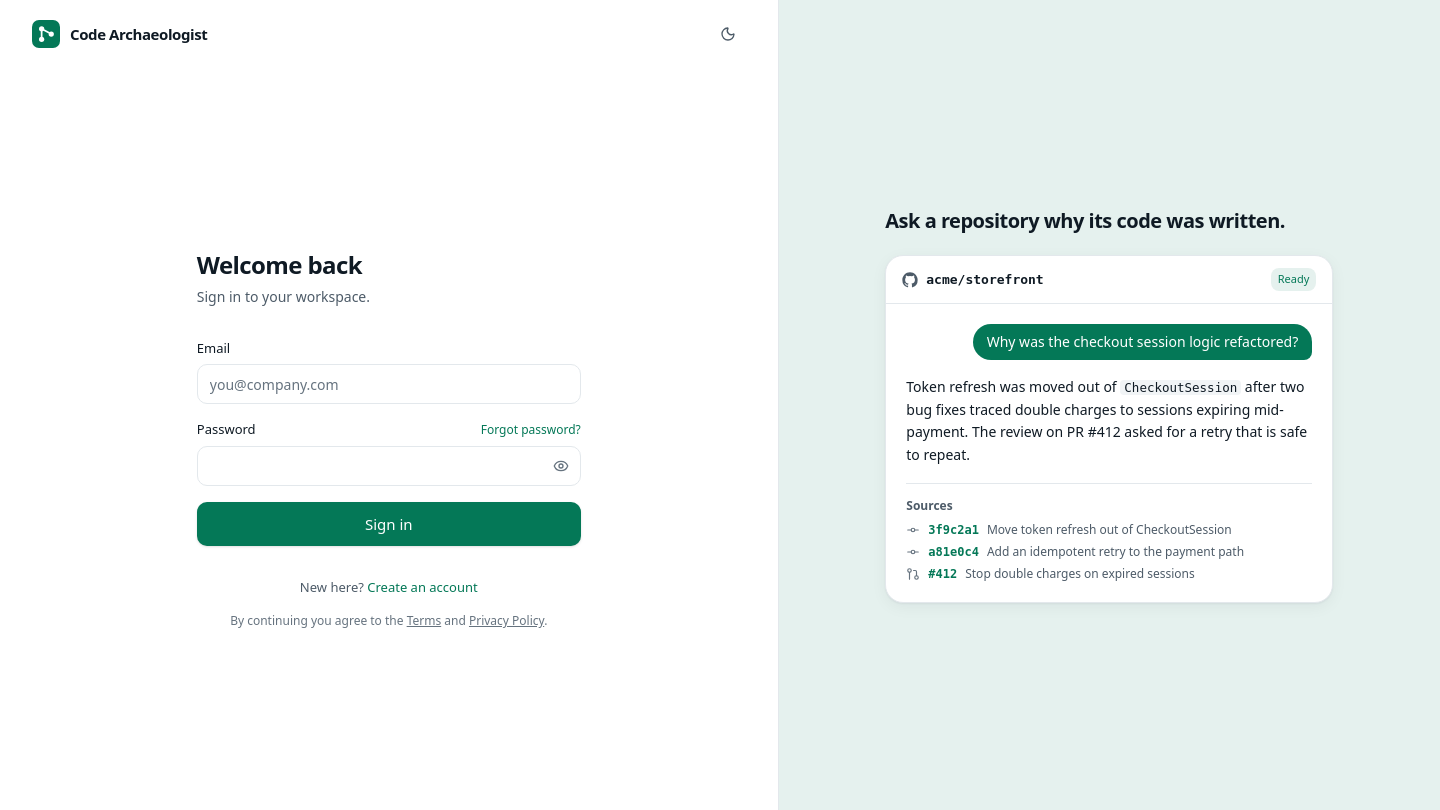
Test case: Login › asks for the authenticator code after a right password on a two-step account
Step 1. Type "me@example.com" into the field labelled "Email" → (389,384), box [197,364,581,404]
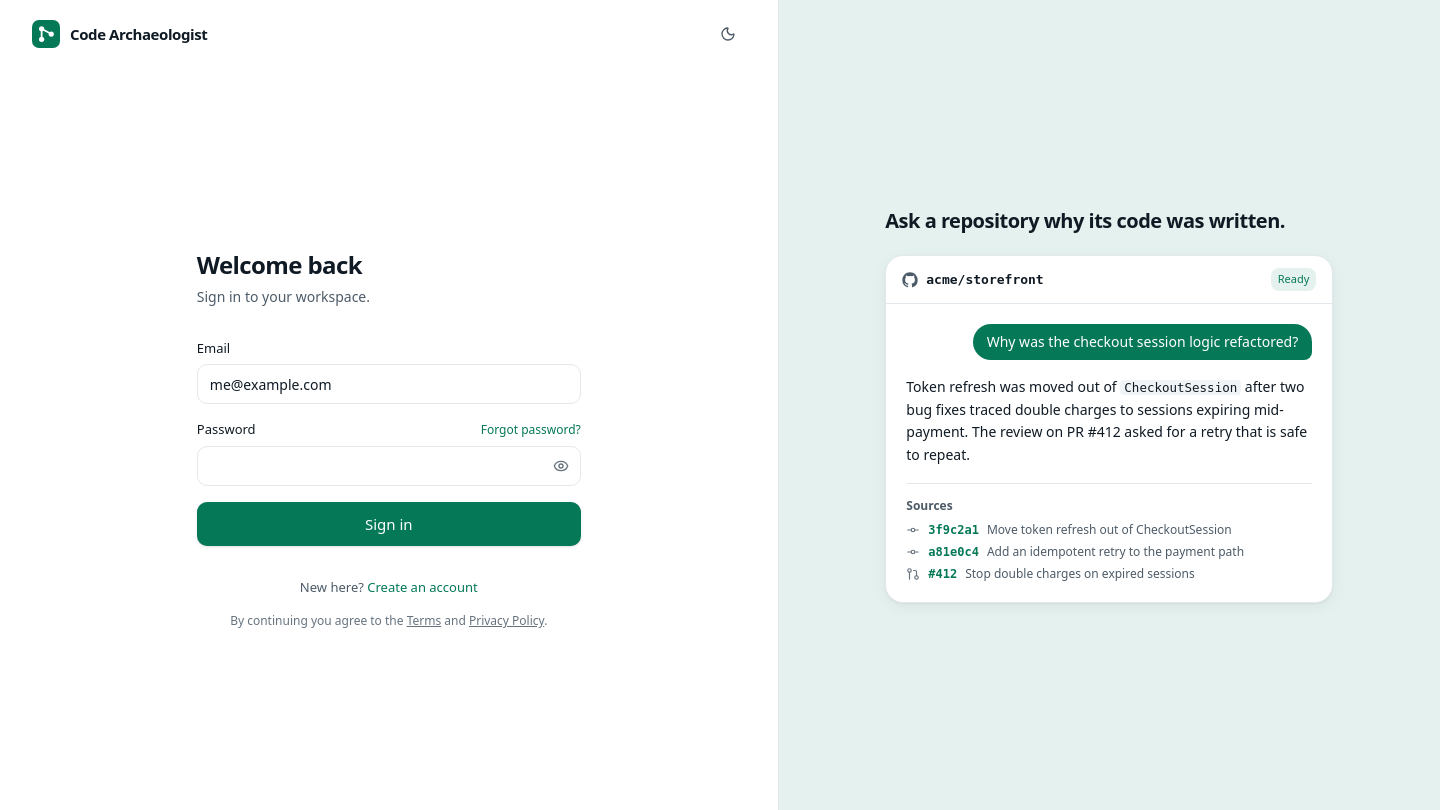
Step 2. Type "a-good-password" into the password field labelled "Password" → (389,466), box [197,446,581,486]
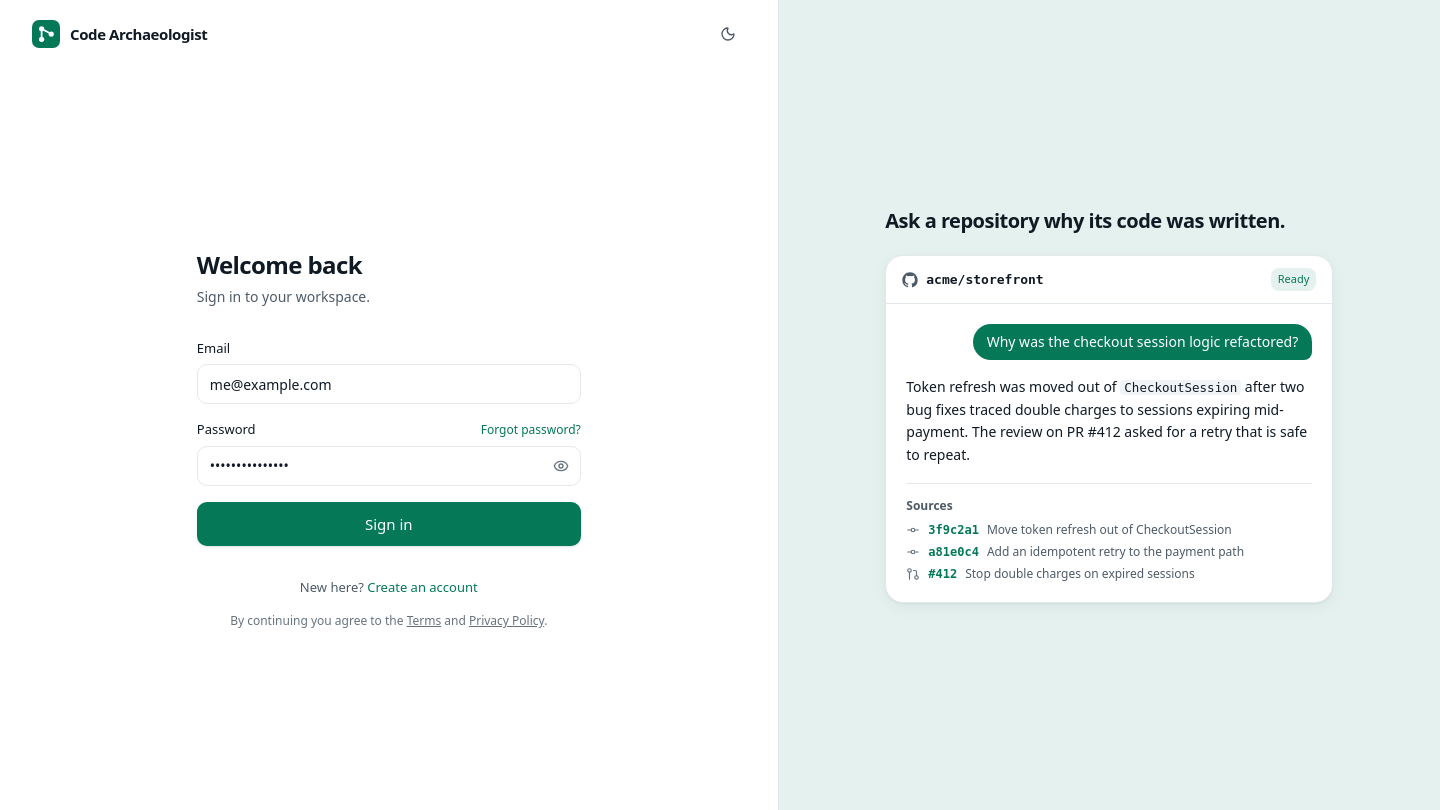
Step 3. Click the button "Sign in" → (389,524), box [197,502,581,546]
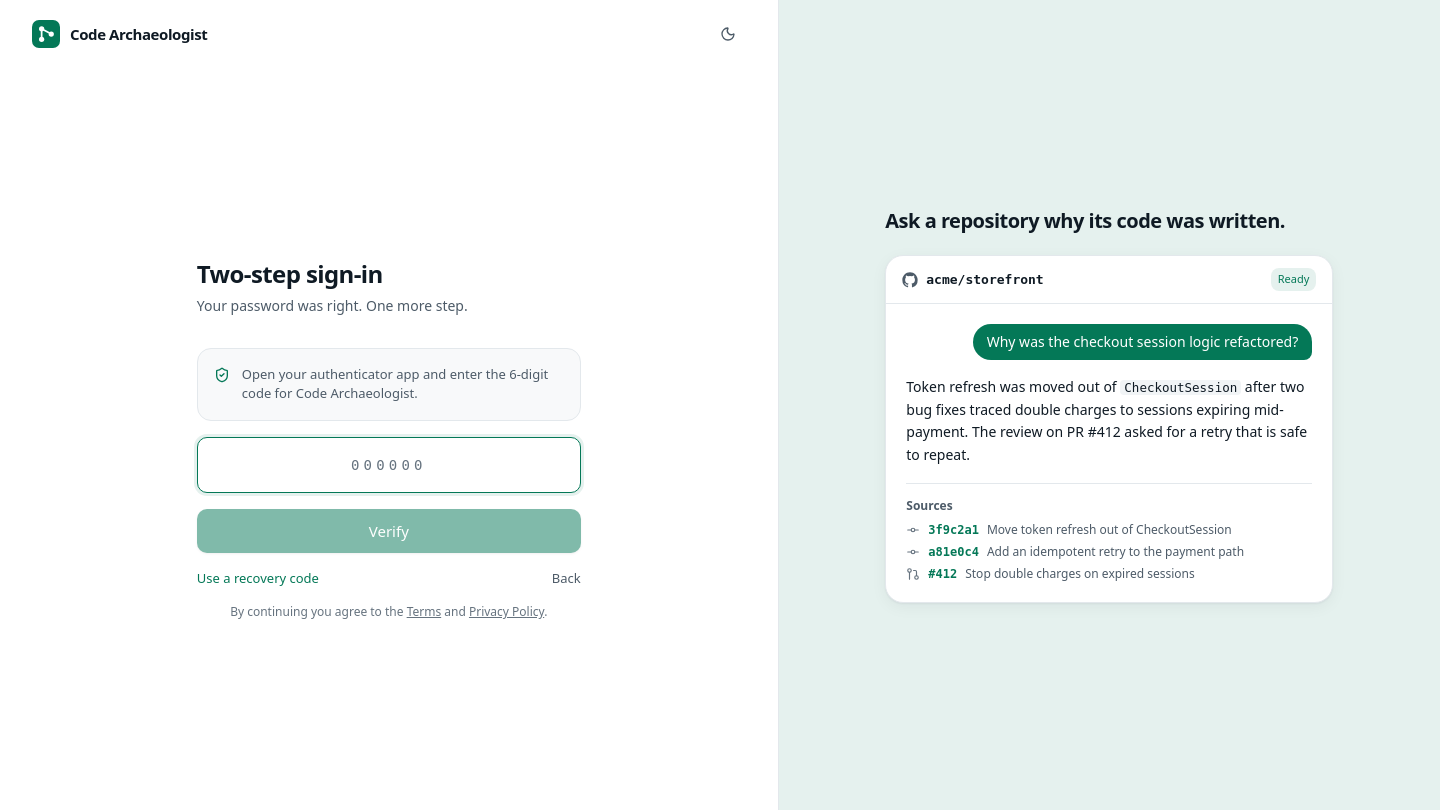
Check: the heading "Two-step sign-in" is shown, box [197,257,383,290]
Check: the field named "6-digit code" is shown, box [197,437,581,493]
Check: the button "Use a recovery code" is shown, box [197,569,319,588]
